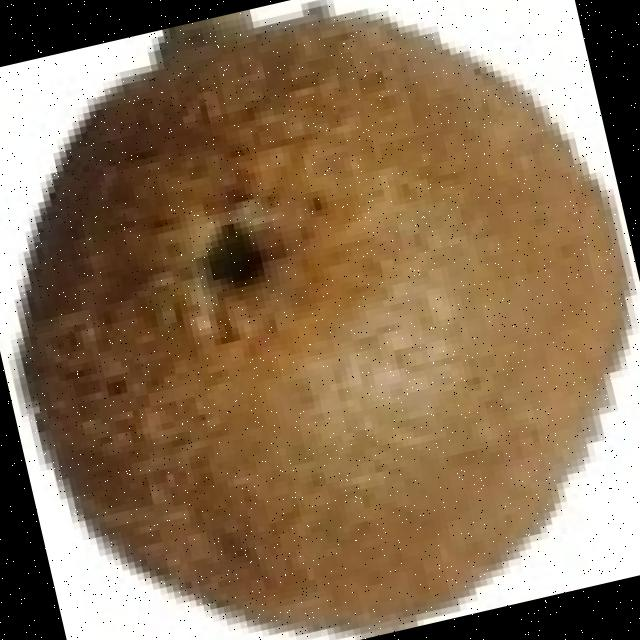kiwi: (26, 17, 625, 632)
